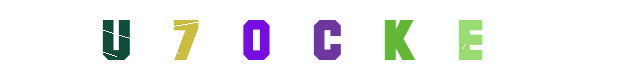0: (276, 0, 356, 80)
7: (216, 0, 296, 80)
C: (286, 0, 366, 80)
E: (356, 0, 436, 80)
K: (306, 0, 386, 80)
U: (76, 0, 156, 80)
